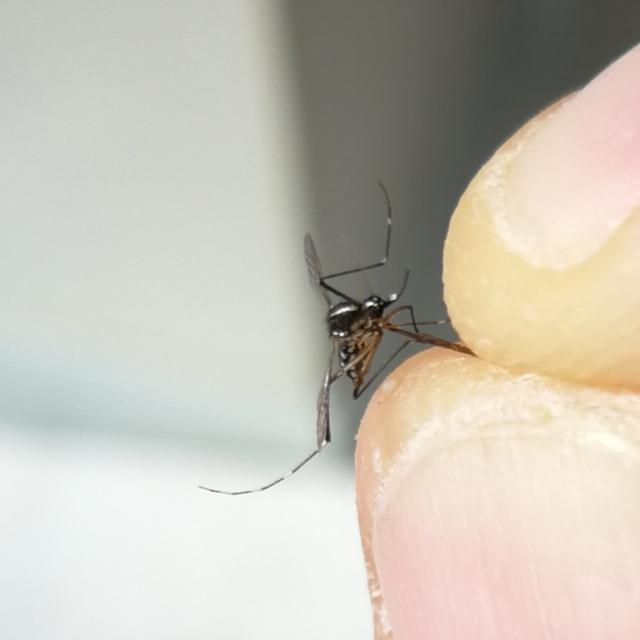albopictus: (208, 166, 489, 519)
